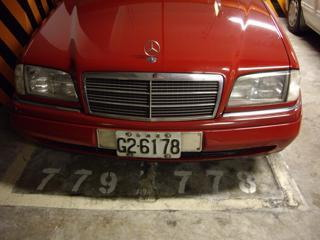plate: (114, 128, 182, 158)
